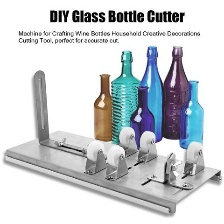bottle: (110, 47, 145, 146), (162, 44, 189, 143), (138, 44, 164, 144), (178, 78, 207, 152), (128, 83, 155, 150), (91, 71, 112, 143)
